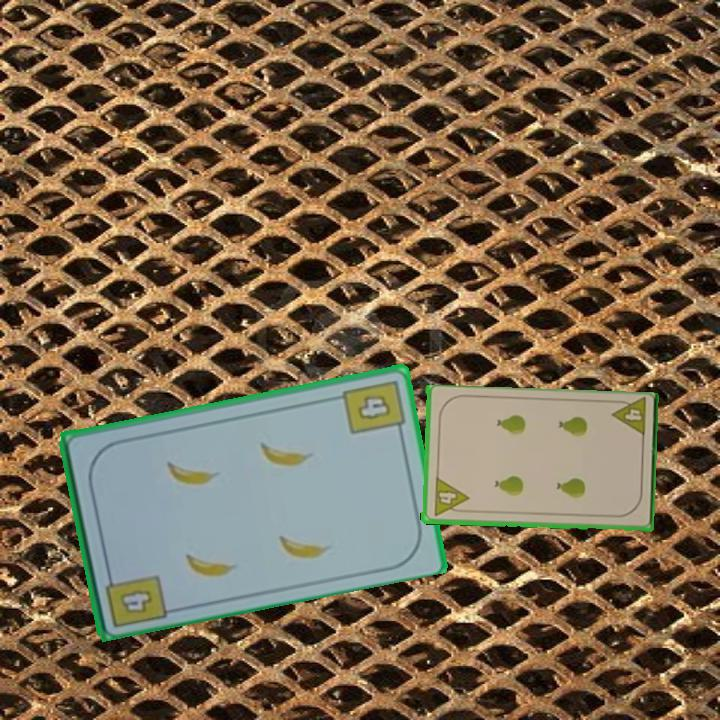4b: (101, 565, 169, 630), (339, 376, 407, 438)
4p: (608, 396, 649, 441), (430, 475, 470, 519)
